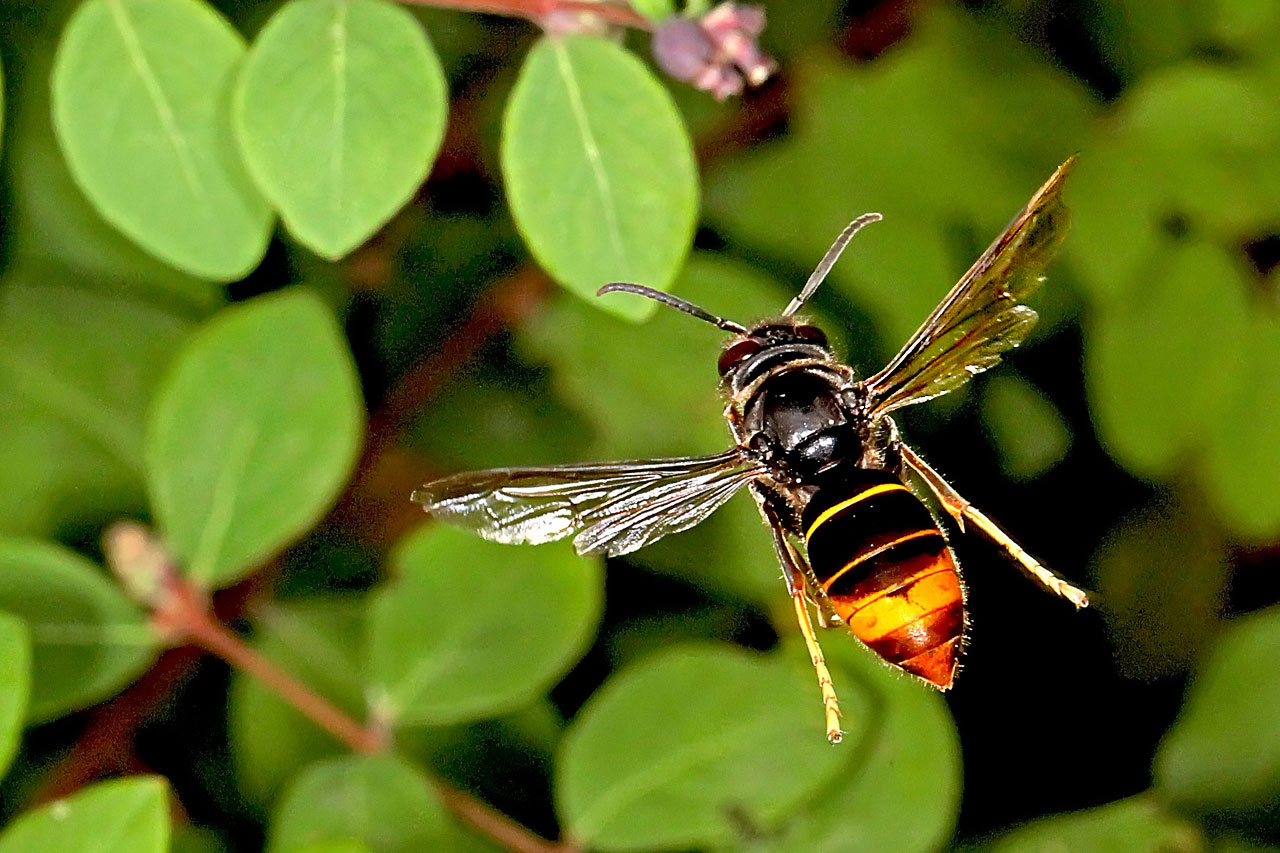hornet: (657, 229, 1008, 724)
